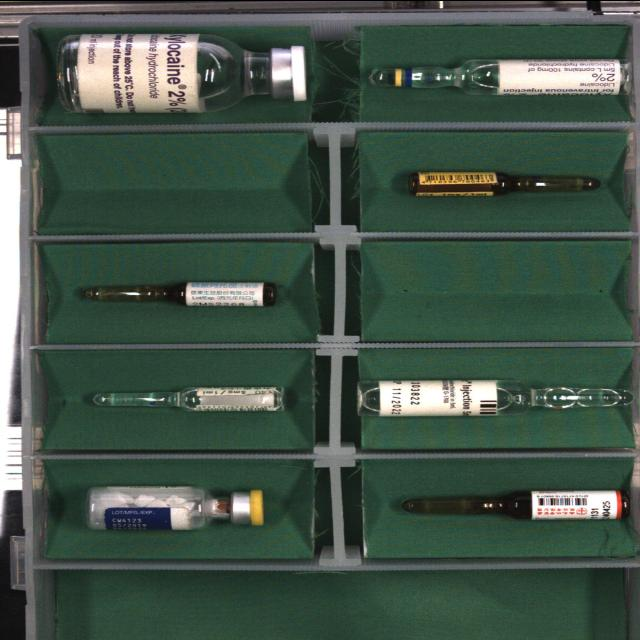Vials: (57, 31, 307, 113), (87, 485, 264, 529)
